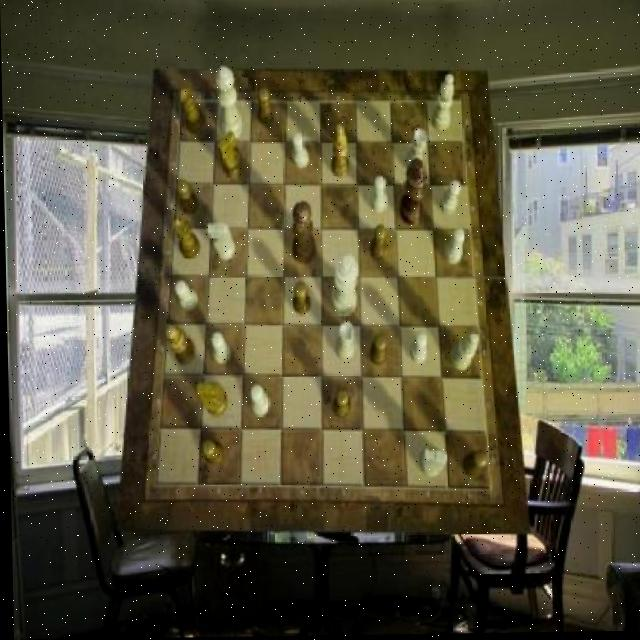bishop: (164, 325, 193, 366), (330, 125, 348, 180)
black-bishop: (398, 160, 427, 228)
black-king: (216, 131, 241, 179), (194, 382, 226, 417)
black-knight: (174, 179, 198, 216), (257, 88, 275, 126), (460, 452, 485, 479), (367, 225, 385, 261), (199, 441, 222, 469), (292, 282, 310, 317), (367, 335, 385, 368), (329, 390, 349, 419)
black-pawn: (289, 202, 314, 267)
black-queen: (172, 216, 200, 259), (179, 88, 204, 136)
black-rook: (429, 75, 453, 133), (447, 333, 477, 371)
white-bishop: (328, 254, 356, 319)
white-king: (206, 224, 234, 261), (417, 447, 445, 478)
white-knight: (442, 230, 465, 266), (172, 281, 196, 312), (438, 181, 459, 216), (290, 133, 308, 170), (247, 385, 267, 417), (369, 177, 385, 215), (408, 333, 426, 366), (210, 333, 228, 365)
white-pawn: (214, 66, 242, 141)
white-queen: (402, 129, 426, 175), (332, 322, 352, 361)
